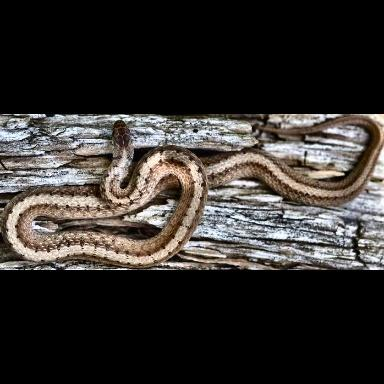snake: (0, 115, 384, 268)
